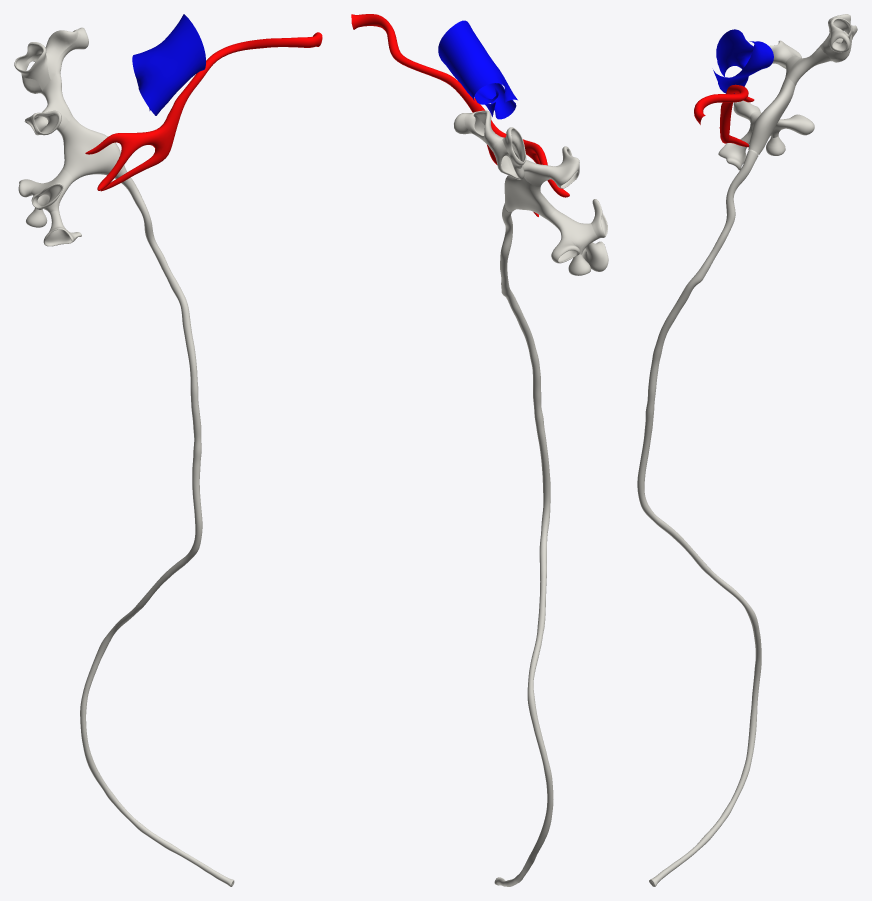
Rendered from 3d-vh-f-kidney-r-landmark.glb.
3 renders of one model, left to right at view 1: azimuth 30°, elevation 25°; view 2: azimuth 150°, elevation 25°; view 3: azimuth 270°, elevation 25°, orthographic. The views are drawn at different scales.
Parts seen in each view (by area): view 1: VH_F_kidney_R_landmark_right_ureter, VH_F_kidney_R_landmark_minor_calyxes, VH_F_kidney_R_landmark_renal_artery, VH_F_kidney_R_landmark_renal_vein, VH_F_kidney_R_landmark_renal_pelvis, VH_F_kidney_R_landmark_major_calyxes; view 2: VH_F_kidney_R_landmark_right_ureter, VH_F_kidney_R_landmark_minor_calyxes, VH_F_kidney_R_landmark_renal_vein, VH_F_kidney_R_landmark_renal_artery, VH_F_kidney_R_landmark_major_calyxes, VH_F_kidney_R_landmark_renal_pelvis; view 3: VH_F_kidney_R_landmark_right_ureter, VH_F_kidney_R_landmark_minor_calyxes, VH_F_kidney_R_landmark_renal_vein, VH_F_kidney_R_landmark_renal_artery, VH_F_kidney_R_landmark_renal_pelvis, VH_F_kidney_R_landmark_major_calyxes.
Boxes of the visible parts, x1,y1,x2,y2 form: VH_F_kidney_R_landmark_right_ureter: (80, 177, 234, 886); VH_F_kidney_R_landmark_minor_calyxes: (14, 27, 88, 246); VH_F_kidney_R_landmark_renal_artery: (85, 32, 322, 191); VH_F_kidney_R_landmark_renal_vein: (132, 14, 205, 115); VH_F_kidney_R_landmark_renal_pelvis: (61, 117, 126, 181); VH_F_kidney_R_landmark_major_calyxes: (31, 73, 73, 212); VH_F_kidney_R_landmark_right_ureter: (494, 203, 553, 886); VH_F_kidney_R_landmark_minor_calyxes: (454, 110, 608, 275); VH_F_kidney_R_landmark_renal_vein: (438, 20, 517, 119); VH_F_kidney_R_landmark_renal_artery: (351, 14, 569, 216); VH_F_kidney_R_landmark_major_calyxes: (506, 149, 598, 254); VH_F_kidney_R_landmark_renal_pelvis: (504, 175, 556, 220); VH_F_kidney_R_landmark_right_ureter: (637, 150, 761, 886); VH_F_kidney_R_landmark_minor_calyxes: (718, 14, 857, 170); VH_F_kidney_R_landmark_renal_vein: (713, 29, 773, 93); VH_F_kidney_R_landmark_renal_artery: (694, 84, 754, 147); VH_F_kidney_R_landmark_renal_pelvis: (748, 77, 795, 155); VH_F_kidney_R_landmark_major_calyxes: (747, 45, 830, 138).
Size of the model in its own units: 0.0895 by 0.2728 by 0.0632.
